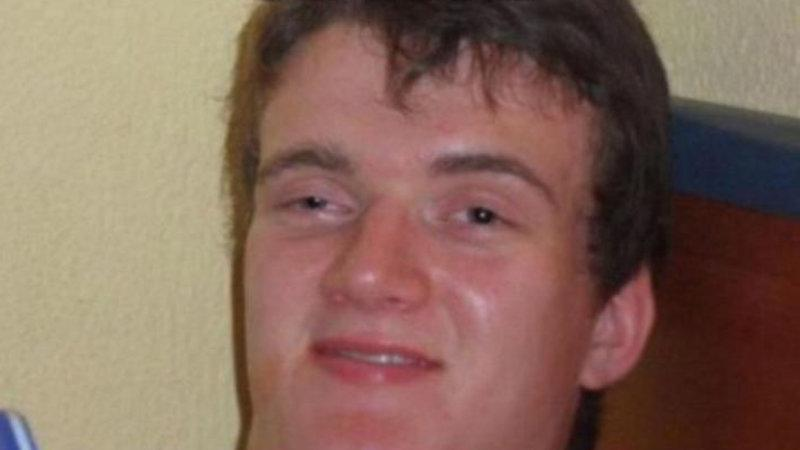Drunk: (255, 47, 571, 448)
